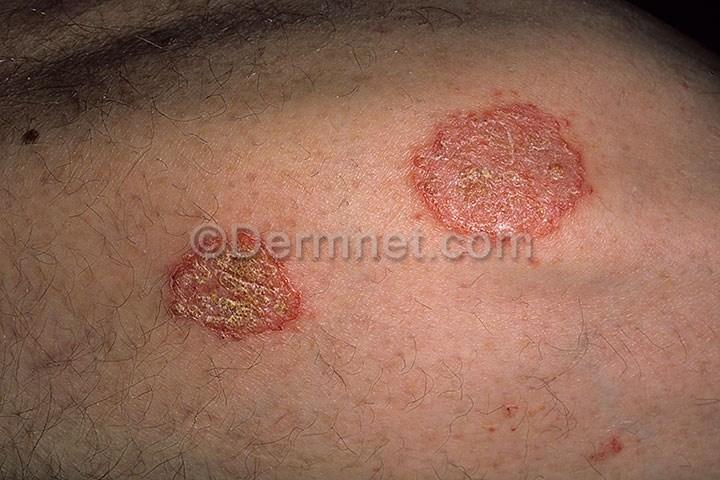Eczema: (406, 78, 614, 223), (137, 258, 335, 381), (552, 411, 664, 473)
